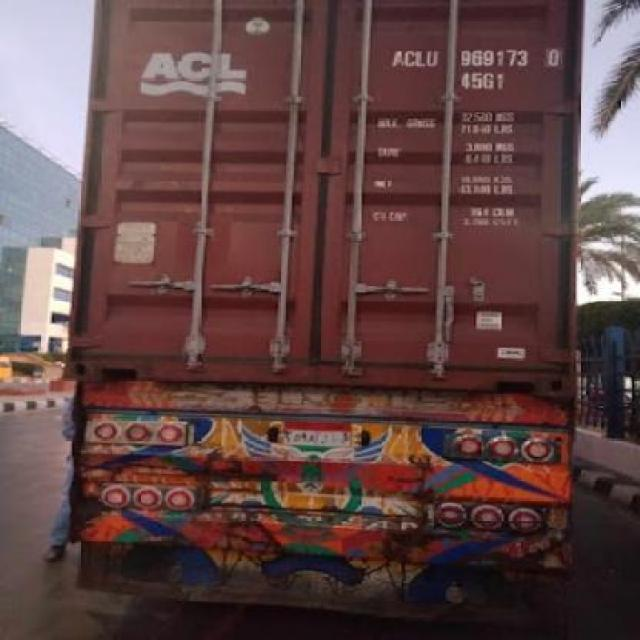ISO: (458, 72, 504, 92)
container_number: (397, 48, 560, 68)
